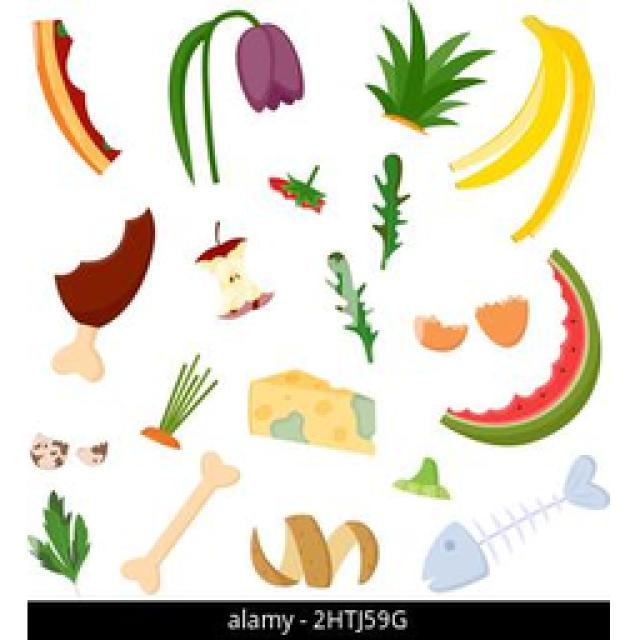food_waste: (458, 18, 592, 238), (445, 250, 598, 442), (170, 10, 302, 182), (122, 452, 238, 590), (55, 210, 152, 375), (368, 5, 490, 128), (35, 20, 118, 172), (250, 370, 372, 452), (250, 512, 378, 585), (195, 220, 270, 318), (142, 355, 215, 448), (328, 250, 375, 360), (30, 490, 88, 578), (422, 522, 488, 590), (375, 152, 408, 268), (270, 168, 322, 210), (395, 458, 448, 498), (475, 300, 525, 342), (418, 318, 465, 348), (30, 435, 68, 468)
